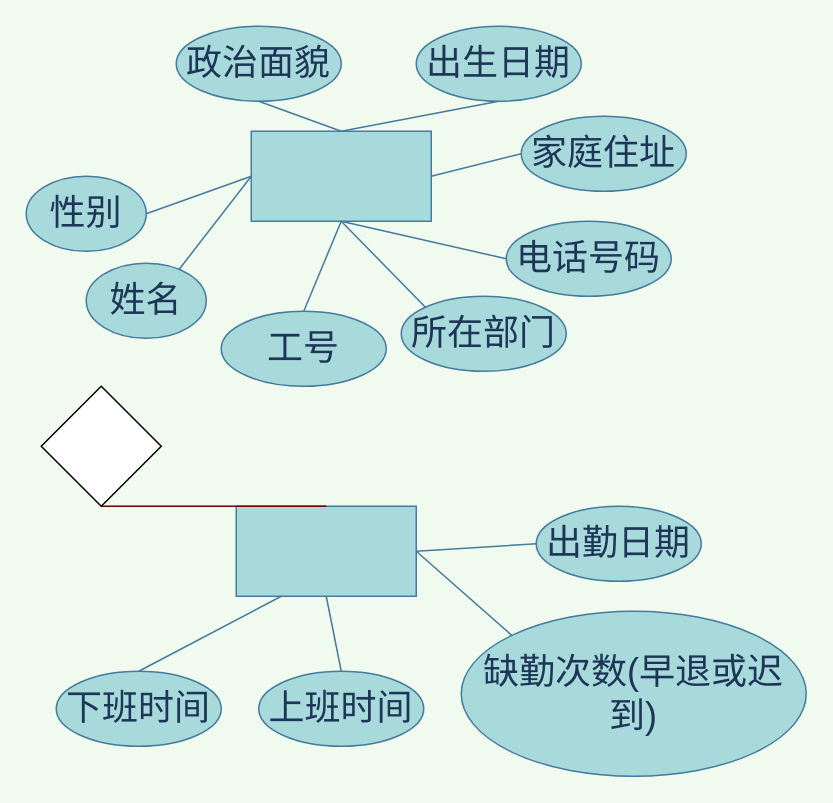
Some shapes in this 833 by 803 pixel diagram are drawn without their labels. Each missing label, with the centre of its shape:
员工: (340,175)
员工考勤: (325,550)
